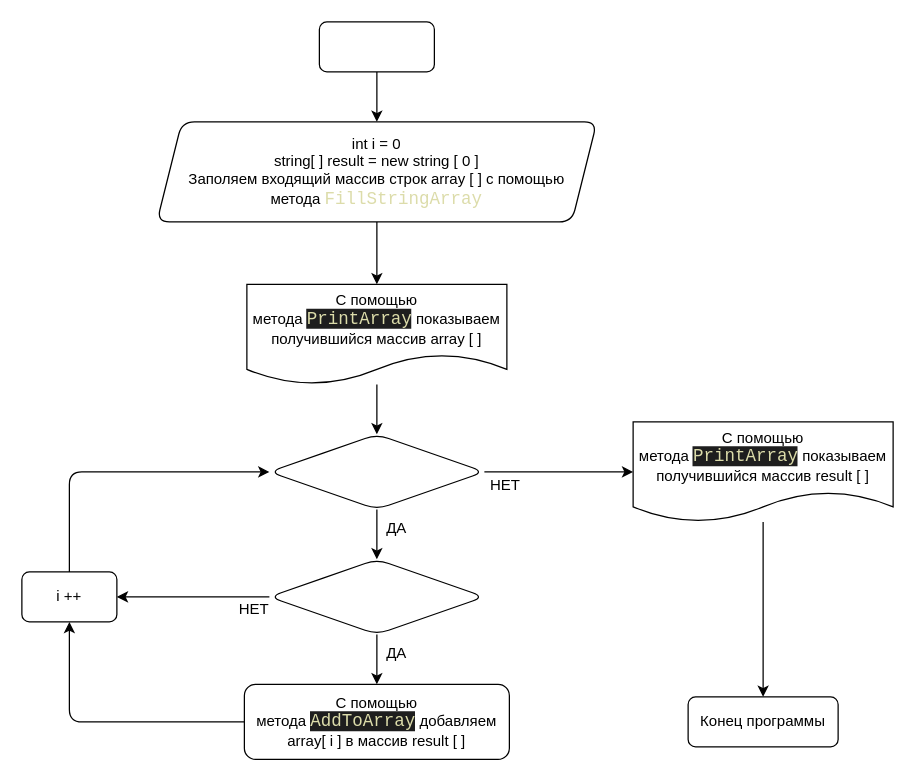
This 915x781 diagram has some shape labels left out. Each missing label, with the centre of its shape:
"array[ i ].Lenght <= 3" goes at pixel 376 596.
"while i < array.Lenght" goes at pixel 376 471.
"Старт" goes at pixel 376 46.
